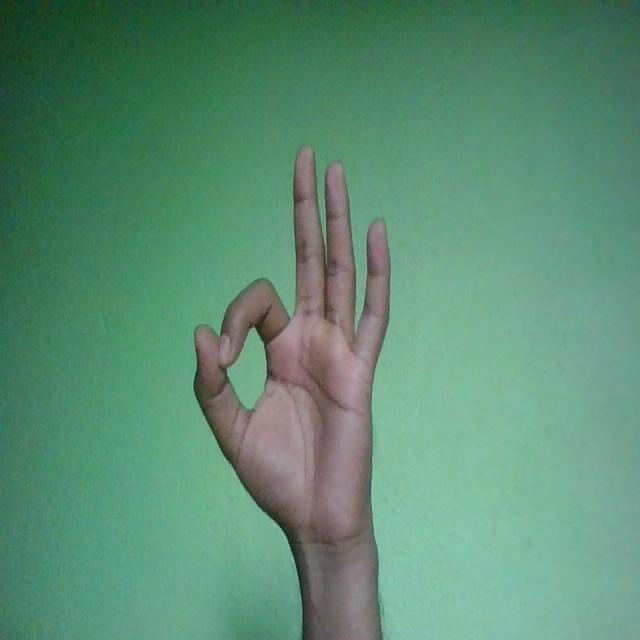Rock On: (193, 144, 392, 551)
